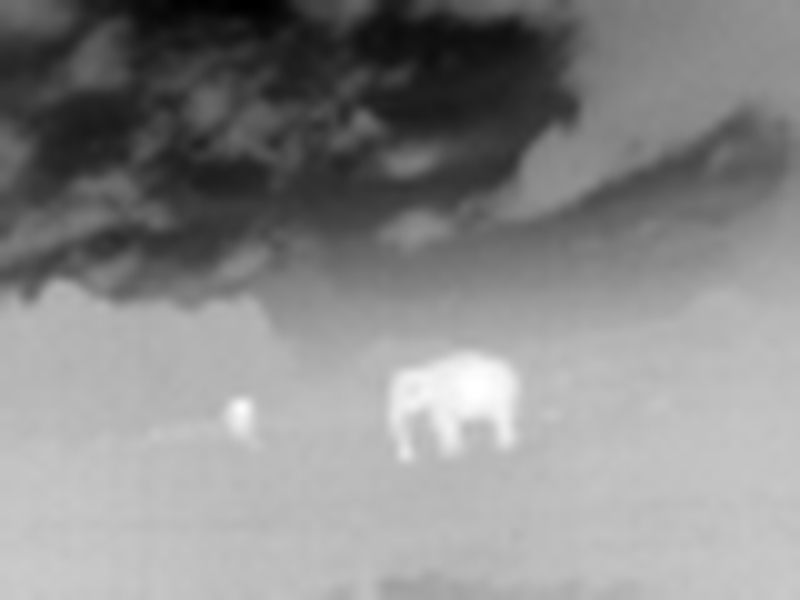elephant: (392, 354, 524, 464)
